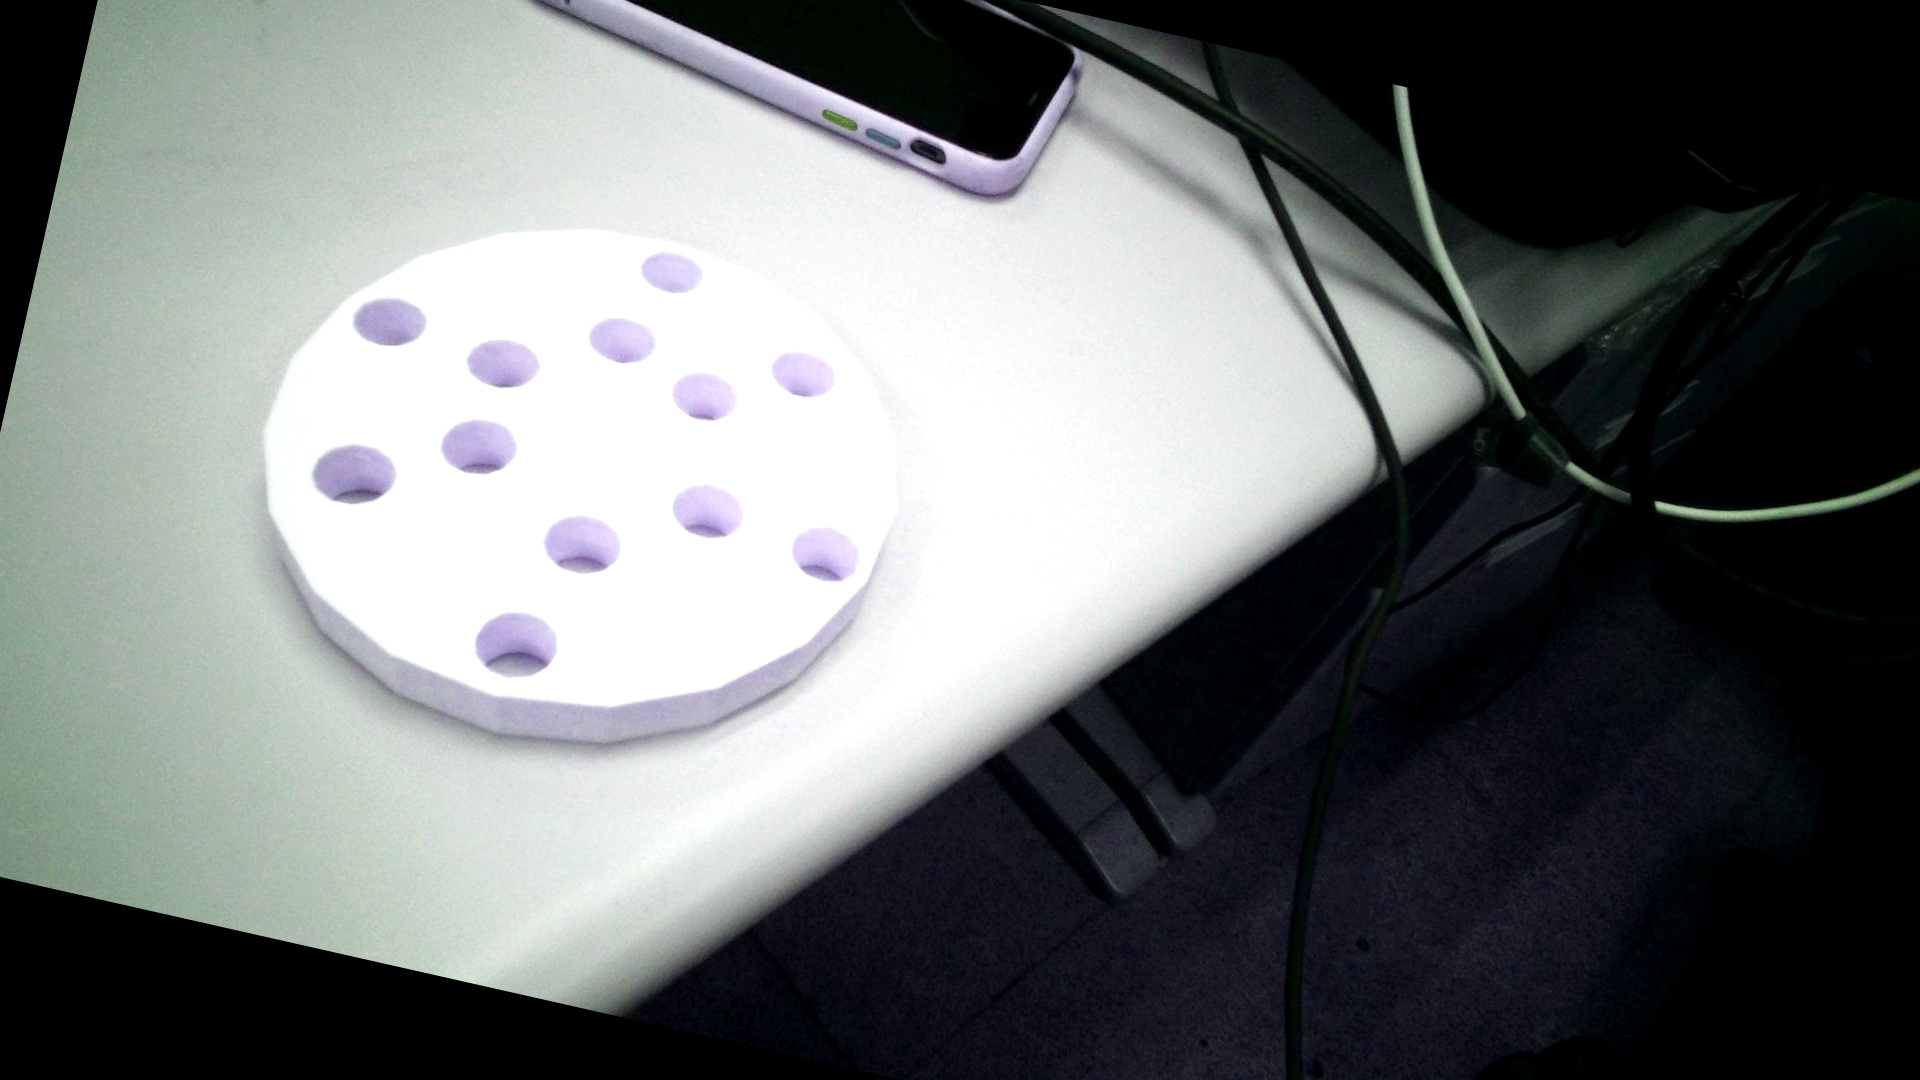hole: (454, 320, 556, 404), (305, 431, 401, 518), (467, 604, 564, 687), (433, 405, 526, 484), (340, 282, 436, 357), (541, 505, 628, 585), (669, 473, 748, 550), (669, 365, 741, 435), (585, 309, 661, 371), (632, 243, 708, 301), (798, 525, 865, 587), (767, 345, 836, 404)
obj: (194, 138, 949, 831)
